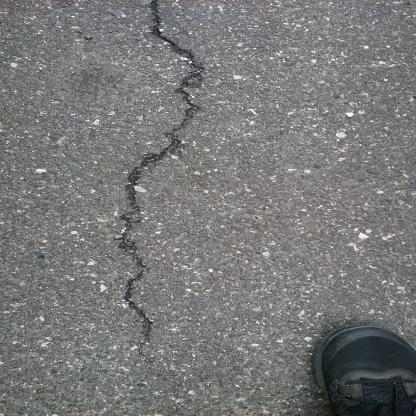Cracks: (102, 0, 219, 348)
